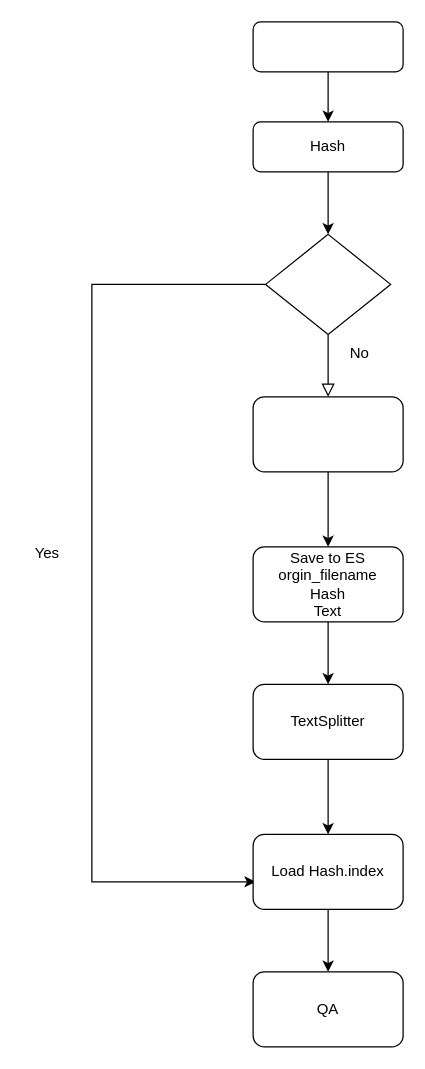
This 425x1069 diagram has some shape labels left out. Each missing label, with the centre of its shape:
"Docs" belongs at point 327,46.
"Is in ES?" belongs at point 327,283.
"Save to Local and covert to Document" belongs at point 327,434.
